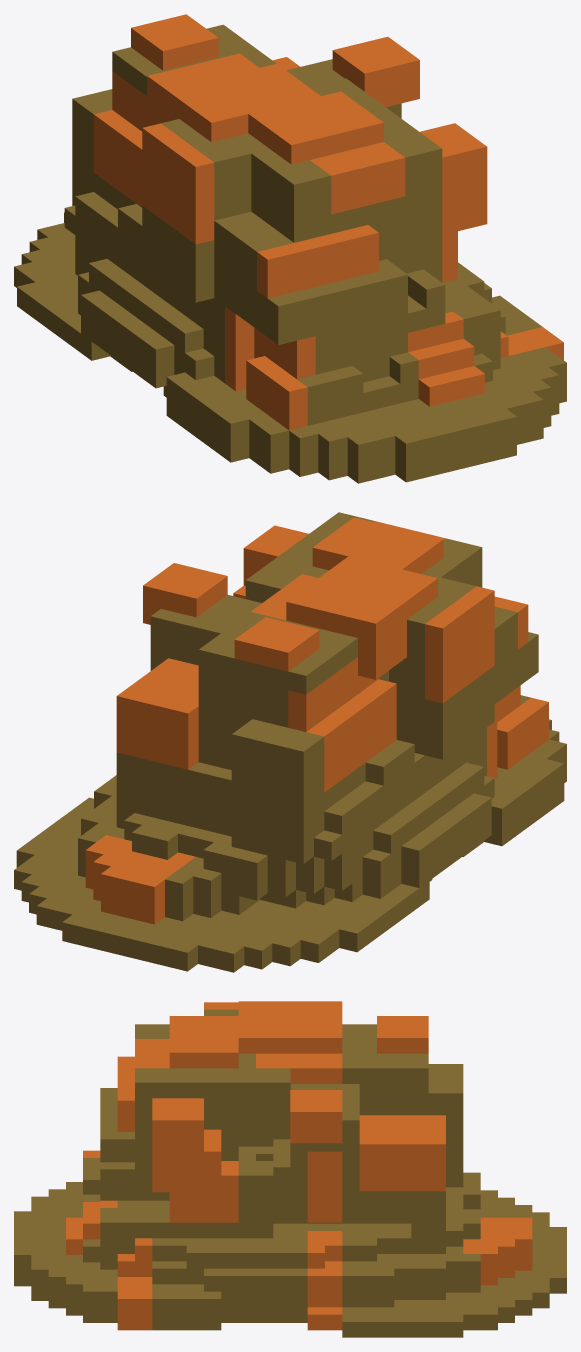
The model's file is iron_mine.obj.
3 views of the same model, one above another, from view 1: azimuth 30°, elevation 25°; view 2: azimuth 150°, elevation 25°; view 3: azimuth 270°, elevation 25° (orthographic). The views are drawn at different scales.
Size of the model in its own units: 1.9 by 1.4 by 3.2.
Materials: 1 (1 with a texture image).
